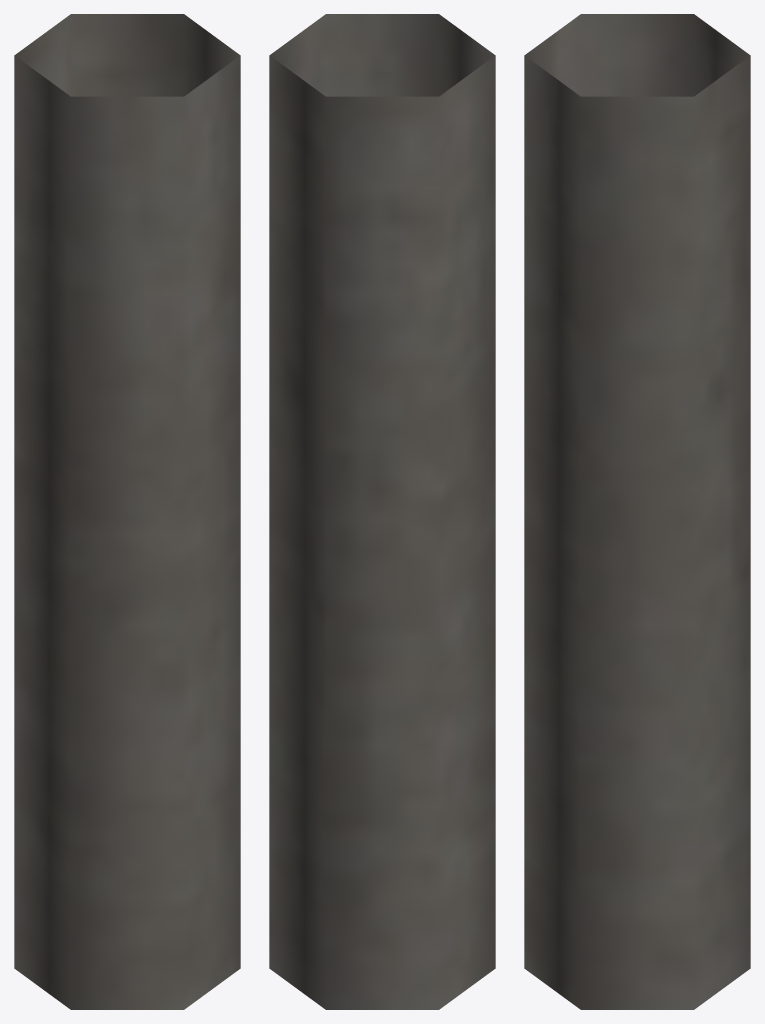
The model's file is cable_5cm.glb.
3 views of the same model, side by side, from view 1: azimuth 30°, elevation 25°; view 2: azimuth 150°, elevation 25°; view 3: azimuth 270°, elevation 25° (orthographic).
Visible parts, largest first — view 1: cable_5cm.001; view 2: cable_5cm.001; view 3: cable_5cm.001.
Boxes of the visible parts, x1,y1,x2,y2 form: cable_5cm.001: (14, 14, 240, 1009); cable_5cm.001: (269, 14, 495, 1009); cable_5cm.001: (524, 14, 750, 1009).
Bounding box in the file's own units: 0.00971 × 0.05 × 0.0112.
Materials: 1 (1 with a texture image).
